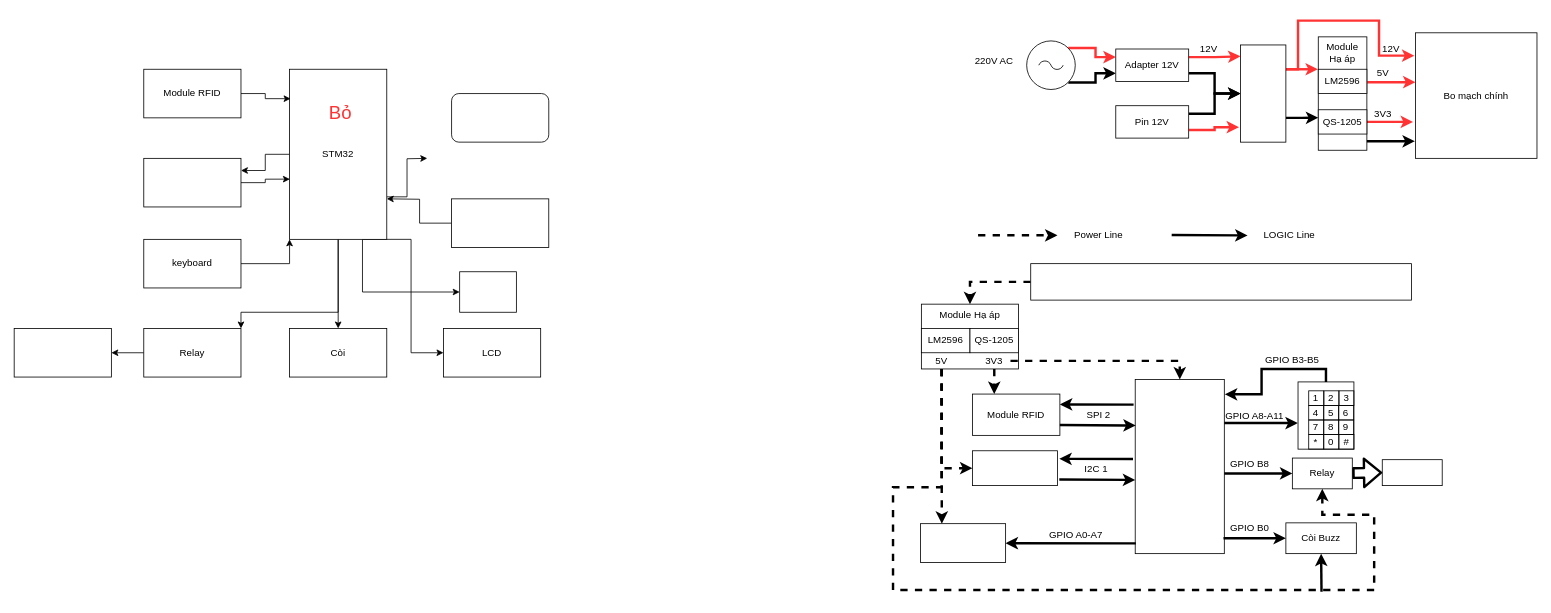
The diagram is 1551 pixels wide and 613 high, and some of its shapes have lost their labels. Each missing label, with the centre of its shape:
"AT24C32" goes at (x=1014, y=468).
"Board STM32F103" goes at (x=1179, y=466).
"Chốt điện" goes at (x=1411, y=472).
"Cảm biến Chuyển động" goes at (x=500, y=222).
"EPROM" goes at (x=192, y=182).
"Khóa" goes at (x=62, y=352).
"LCD1602" goes at (x=963, y=543).
"LED LCD" goes at (x=487, y=291).
"Nguồn vào 12V" goes at (x=1220, y=281).
"Relay 12v 8 Chân" goes at (x=1263, y=93).
